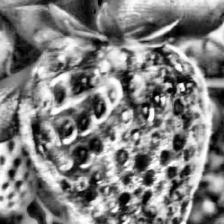Powdery Mildew Fruit: (16, 35, 212, 224)
